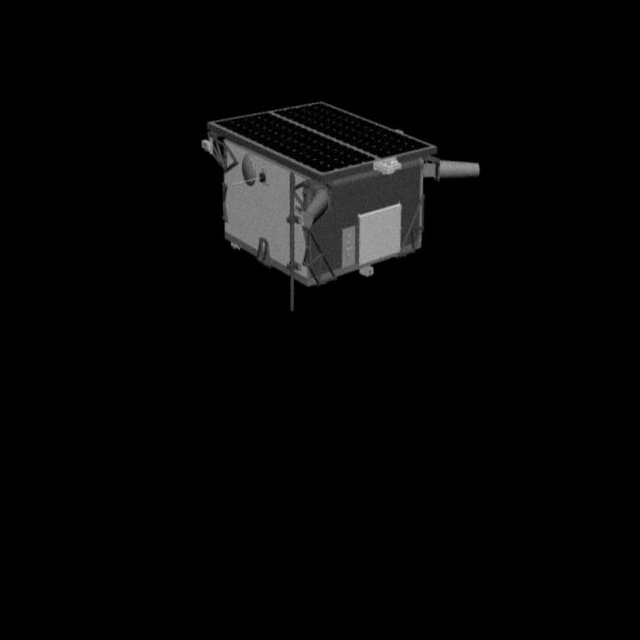satellite: (193, 85, 502, 322)
